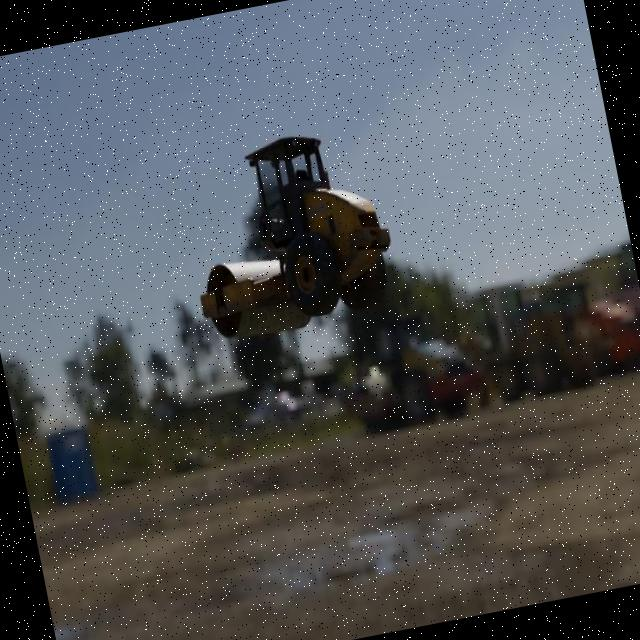Roller: (172, 120, 404, 348)
